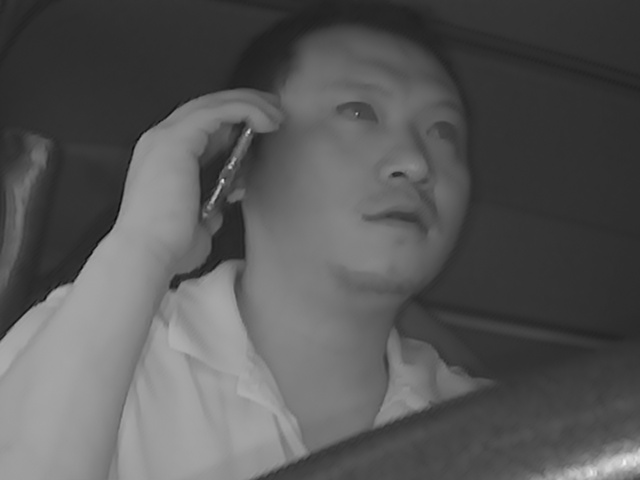hand: (119, 86, 249, 269)
